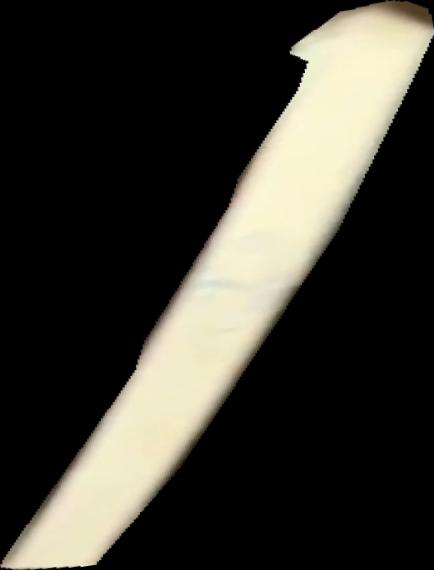backward: (1, 1, 434, 570)
